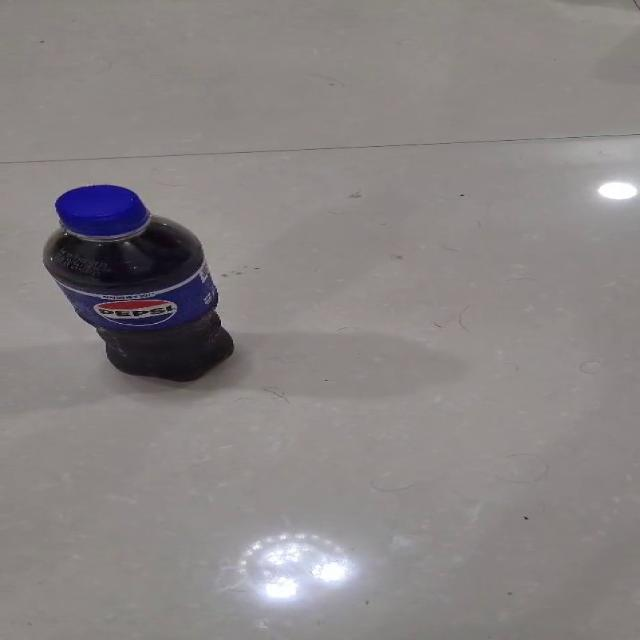plastic: (40, 183, 234, 382)
